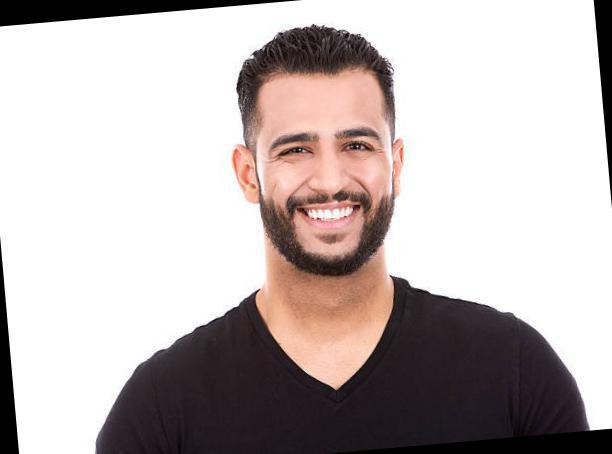Sober: (252, 72, 390, 264)
